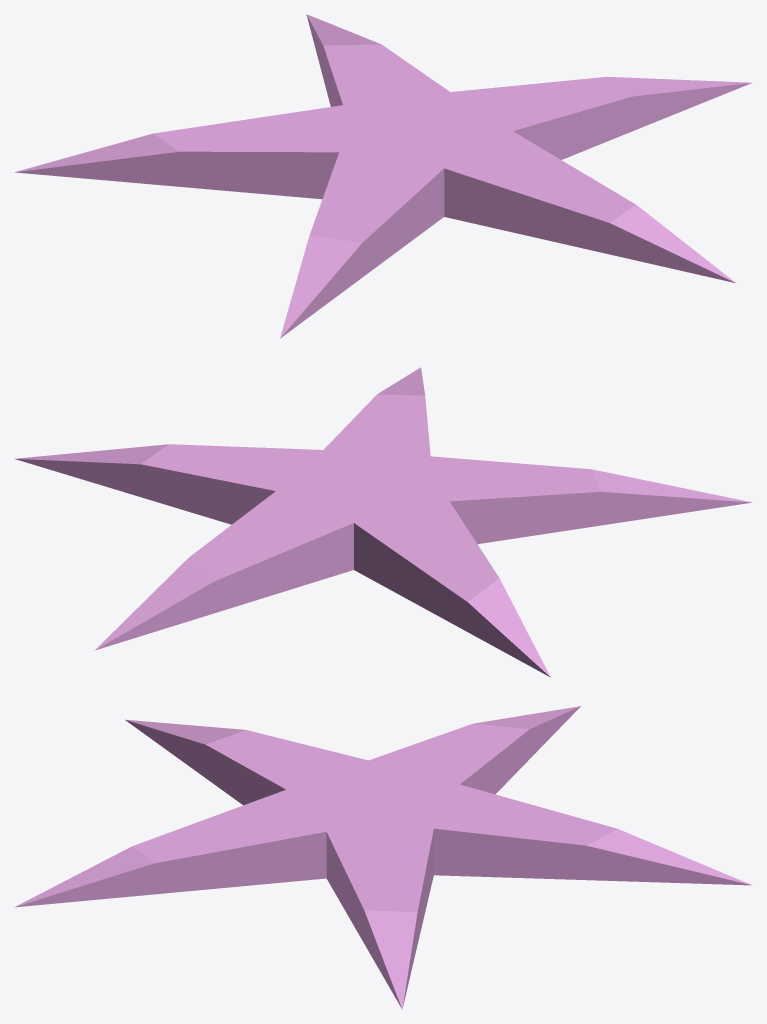
Rendered from seashell.glb.
3 views of the same model, one above another, from view 1: azimuth 30°, elevation 25°; view 2: azimuth 150°, elevation 25°; view 3: azimuth 270°, elevation 25° (orthographic). The views are drawn at different scales.
Parts seen in each view (by area): view 1: Cylinder; view 2: Cylinder; view 3: Cylinder.
Boxes of the visible parts, x1,y1,x2,y2 form: Cylinder: (15,14,752,338); Cylinder: (14,367,752,677); Cylinder: (15,706,751,1009).
Bounding box in the file's own units: 0.8247 × 0.0591 × 0.8478.
